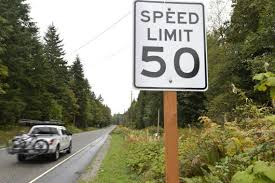speedLimit50: (132, 1, 209, 92)
